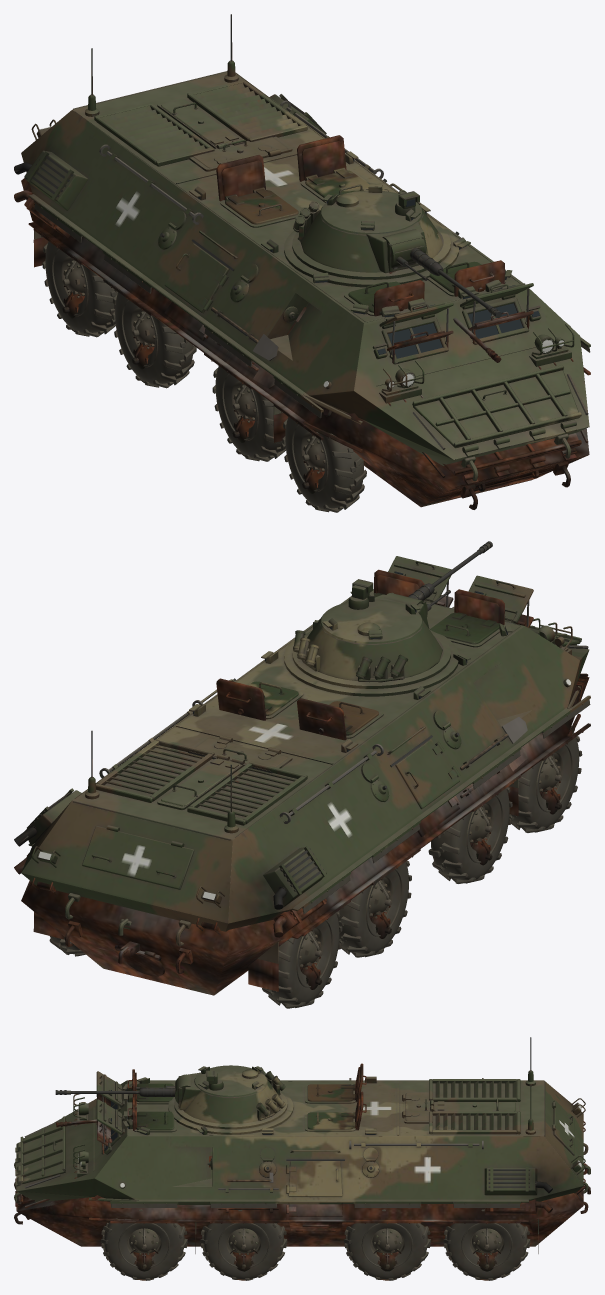
The model's file is btr80_ua.glb.
3 views of the same model, one above another, from view 1: azimuth 30°, elevation 25°; view 2: azimuth 150°, elevation 25°; view 3: azimuth 270°, elevation 25° (orthographic). The views are drawn at different scales.
Visible parts, largest first — view 1: hull_geo, hull_wreck, turret_geo, wheel_R1_geo, wheel_R3_geo, wheel_R4_geo, wheel_R2_geo, gun_geo, hatch_lid_gunner_geo, hatch_lid_cargo_L_geo; view 2: hull_geo, hull_wreck, turret_geo, wheel_R2_geo, wheel_R3_geo, wheel_R4_geo, wheel_R1_geo, hatch_lid_commander_geo, gun_geo, hatch_lid_gunner_geo, hatch_lid_cargo_L_geo; view 3: hull_geo, hull_wreck, turret_geo, wheel_L1_geo, wheel_L3_geo, wheel_L4_geo, wheel_L2_geo, gun_geo, hatch_lid_cargo_L_geo, hatch_lid_gunner_geo, hatch_lid_driver_geo, hatch_lid_commander_geo.
Part boxes in pixels (left/top/right/bottom): hull_geo: left=14, top=14, right=590, bottom=481; hull_wreck: left=14, top=42, right=590, bottom=509; turret_geo: left=292, top=184, right=450, bottom=279; wheel_R1_geo: left=282, top=416, right=366, bottom=512; wheel_R3_geo: left=112, top=291, right=196, bottom=388; wheel_R4_geo: left=42, top=241, right=117, bottom=337; wheel_R2_geo: left=212, top=365, right=285, bottom=461; gun_geo: left=382, top=229, right=501, bottom=318; hatch_lid_gunner_geo: left=225, top=187, right=298, bottom=224; hatch_lid_cargo_L_geo: left=305, top=167, right=369, bottom=197; hull_geo: left=14, top=556, right=590, bottom=963; hull_wreck: left=14, top=569, right=590, bottom=1004; turret_geo: left=292, top=579, right=450, bottom=688; wheel_R2_geo: left=428, top=787, right=512, bottom=883; wheel_R3_geo: left=338, top=860, right=411, bottom=957; wheel_R4_geo: left=262, top=911, right=342, bottom=1008; wheel_R1_geo: left=509, top=726, right=582, bottom=832; hatch_lid_commander_geo: left=430, top=612, right=499, bottom=644; gun_geo: left=384, top=541, right=492, bottom=617; hatch_lid_gunner_geo: left=329, top=701, right=378, bottom=735; hatch_lid_cargo_L_geo: left=249, top=681, right=298, bottom=715; hull_geo: left=14, top=1037, right=590, bottom=1234; hull_wreck: left=14, top=1063, right=590, bottom=1280; turret_geo: left=174, top=1065, right=287, bottom=1129; wheel_L1_geo: left=101, top=1209, right=187, bottom=1280; wheel_L3_geo: left=344, top=1209, right=430, bottom=1280; wheel_L4_geo: left=443, top=1209, right=530, bottom=1280; wheel_L2_geo: left=200, top=1210, right=287, bottom=1280; gun_geo: left=55, top=1074, right=191, bottom=1103; hatch_lid_cargo_L_geo: left=307, top=1112, right=355, bottom=1129; hatch_lid_gunner_geo: left=307, top=1084, right=355, bottom=1101; hatch_lid_driver_geo: left=132, top=1111, right=174, bottom=1130; hatch_lid_commander_geo: left=135, top=1083, right=173, bottom=1102.
Size of what is drawn, in the model's own units: 3.06 by 2.7 by 7.83.
Materials: 4 (2 with a texture image).
